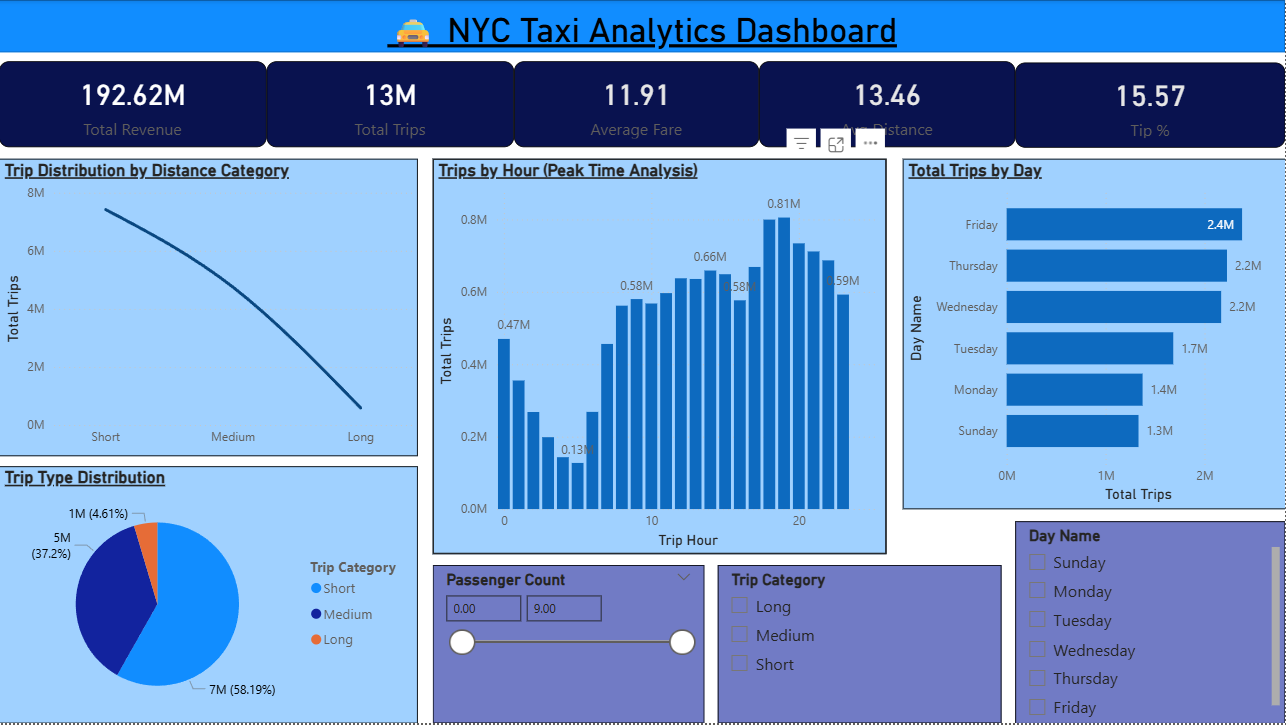

This screenshot's page, from the dashboard's own definition file:
{"tool":"powerbi","page":{"name":"NYC Taxi Overview","canvas":[1280,720],"ordinal":0},"visuals":[{"type":"shape","box":[0,0,1280,52.2],"z":0},{"type":"card","fields":{"Values":["TAXI_DATA.Total Revenue"]},"box":[0,61,266.2,85.8],"z":1000},{"type":"card","fields":{"Values":["TAXI_DATA.Total Trips"]},"box":[266.2,61,246.3,85.8],"z":2000},{"type":"card","fields":{"Values":["TAXI_DATA.Avg Fare"]},"box":[512.5,61,243.8,85.8],"z":3000},{"type":"card","fields":{"Values":["TAXI_DATA.Avg Distance"]},"box":[756.3,61,255,85.8],"z":4000},{"type":"card","fields":{"Values":["TAXI_DATA.Tip %"]},"box":[1011.3,62.2,268.7,84.6],"z":5000},{"type":"lineChart","title":"Trip Distribution by Distance Category","fields":{"Category":["TAXI_DATA.Trip Category"],"Y":["TAXI_DATA.Total Trips"]},"box":[0,157.8,417.2,296.4],"z":6000},{"type":"clusteredColumnChart","title":"Trips by Hour (Peak Time Analysis)","fields":{"Category":["TAXI_DATA.Trip Hour"],"Y":["TAXI_DATA.Total Trips"]},"box":[432.2,157.8,451.5,393.8],"z":7000},{"type":"clusteredBarChart","title":"Total Trips by Day ","fields":{"Y":["TAXI_DATA.Total Trips"],"Category":["TAXI_DATA.Day Name"]},"box":[898.8,157.8,381.5,348.5],"z":8000},{"type":"pieChart","title":"Trip Type Distribution","fields":{"Category":["TAXI_DATA.Trip Category"],"Y":["TAXI_DATA.Total Trips"]},"box":[0,464,417,256],"z":9000},{"type":"slicer","fields":{"Values":["TAXI_DATA.PASSENGER_COUNT"]},"box":[432.2,562.6,270.3,157.8],"z":10000},{"type":"slicer","fields":{"Values":["TAXI_DATA.Trip Category"]},"box":[714.9,562.6,282.7,157.8],"z":11000},{"type":"slicer","fields":{"Values":["TAXI_DATA.Day Name"]},"box":[1011.3,518.7,269,201.7],"z":12000}]}

Visuals, with their boxes in screenshot pixels (x1, y1, x2, y2), scaled from the page's 1280x720 canvas onto the 1286x726 screenshot:
shape: Rect(0, 0, 1285, 53)
card - TAXI_DATA.Total Revenue: Rect(0, 62, 267, 148)
card - TAXI_DATA.Total Trips: Rect(267, 62, 515, 148)
card - TAXI_DATA.Avg Fare: Rect(515, 62, 760, 148)
card - TAXI_DATA.Avg Distance: Rect(760, 62, 1016, 148)
card - TAXI_DATA.Tip %: Rect(1016, 63, 1285, 148)
"Trip Distribution by Distance Category" lineChart: Rect(0, 159, 419, 458)
"Trips by Hour (Peak Time Analysis)" clusteredColumnChart: Rect(434, 159, 888, 556)
"Total Trips by Day " clusteredBarChart: Rect(903, 159, 1285, 511)
"Trip Type Distribution" pieChart: Rect(0, 468, 419, 725)
slicer - TAXI_DATA.PASSENGER_COUNT: Rect(434, 567, 706, 725)
slicer - TAXI_DATA.Trip Category: Rect(718, 567, 1002, 725)
slicer - TAXI_DATA.Day Name: Rect(1016, 523, 1285, 725)
